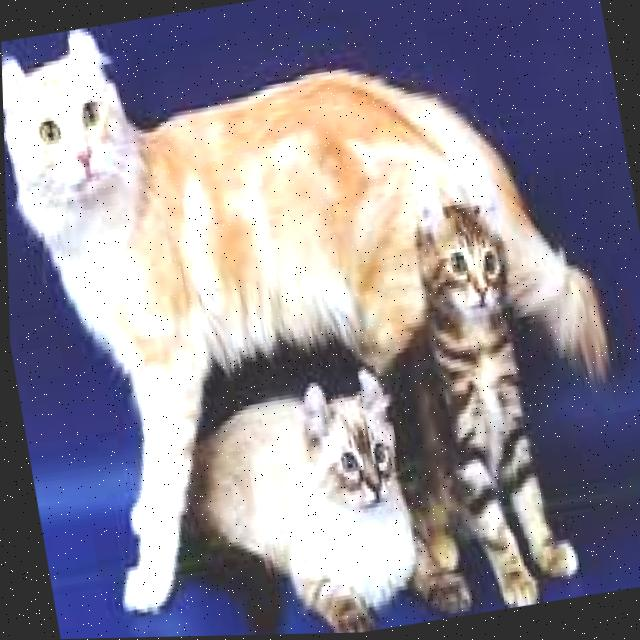American Curl: (0, 0, 429, 412), (339, 173, 583, 627), (147, 349, 468, 638)
